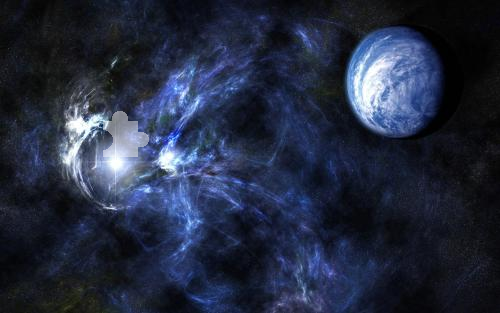target: (92, 107, 160, 168)
